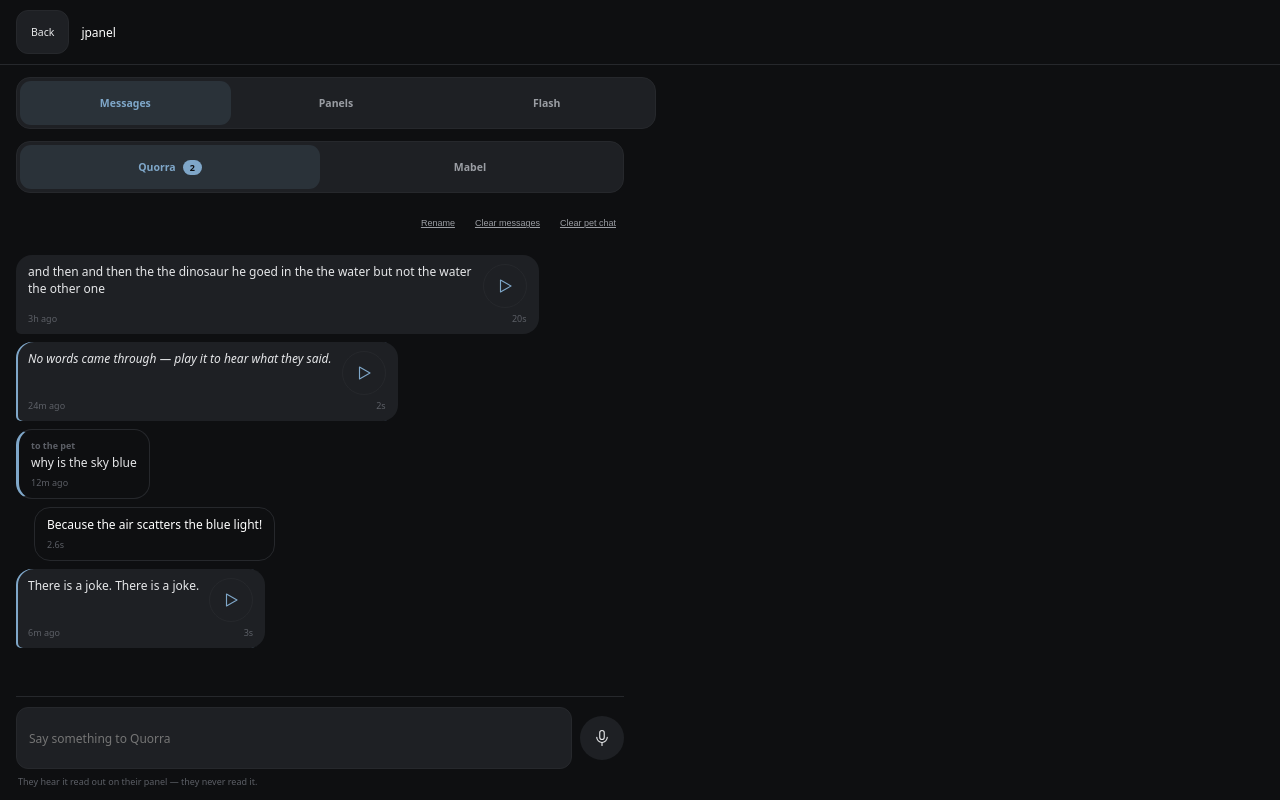
Test case: JpanelScreen messages › says whether what Dad sent has been heard
Type "teeth please" into the field named "Message Quorra" at (294, 738), box [16,707,572,769]
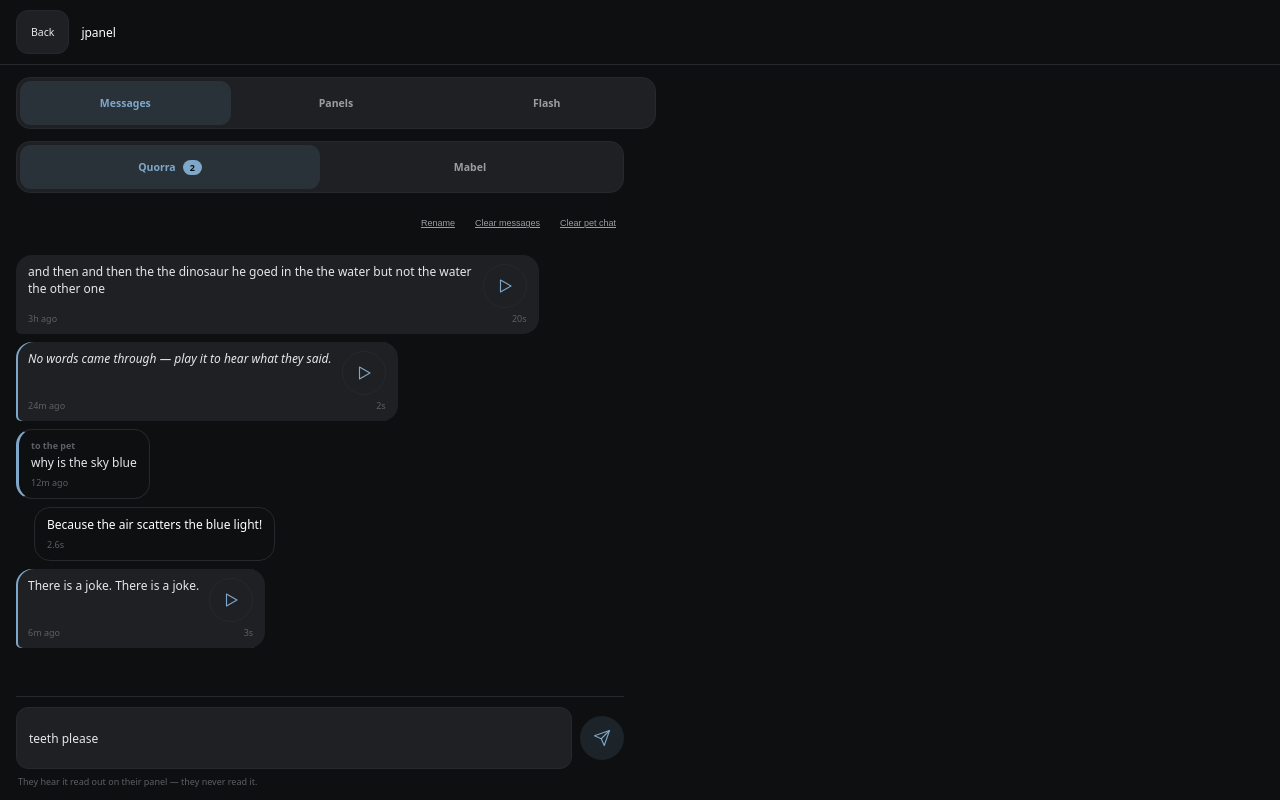
Click the button named "Send to Quorra" at (602, 738), box [580,716,624,760]
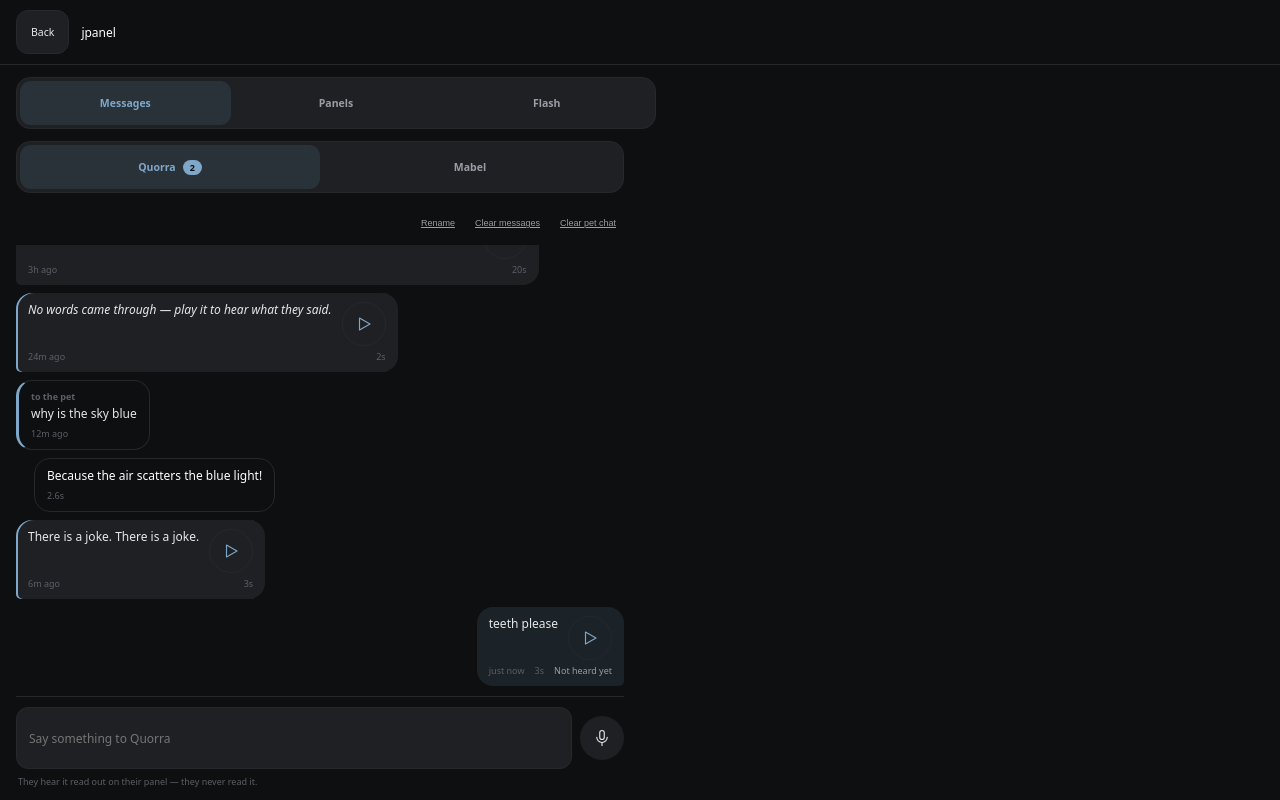
Check: the text "teeth please" is shown, box [489,616,558,632]
Check: the text "Not heard yet" is shown, box [554,664,612,677]
